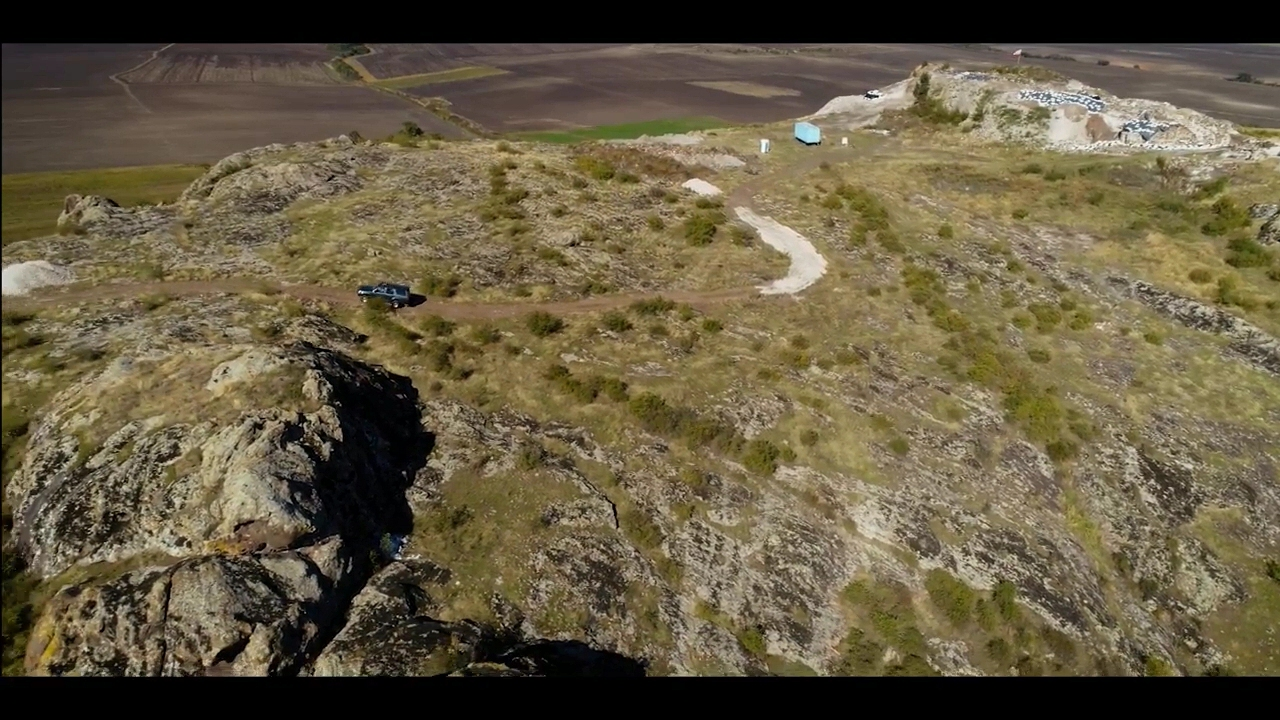araba: (354, 279, 413, 308)
